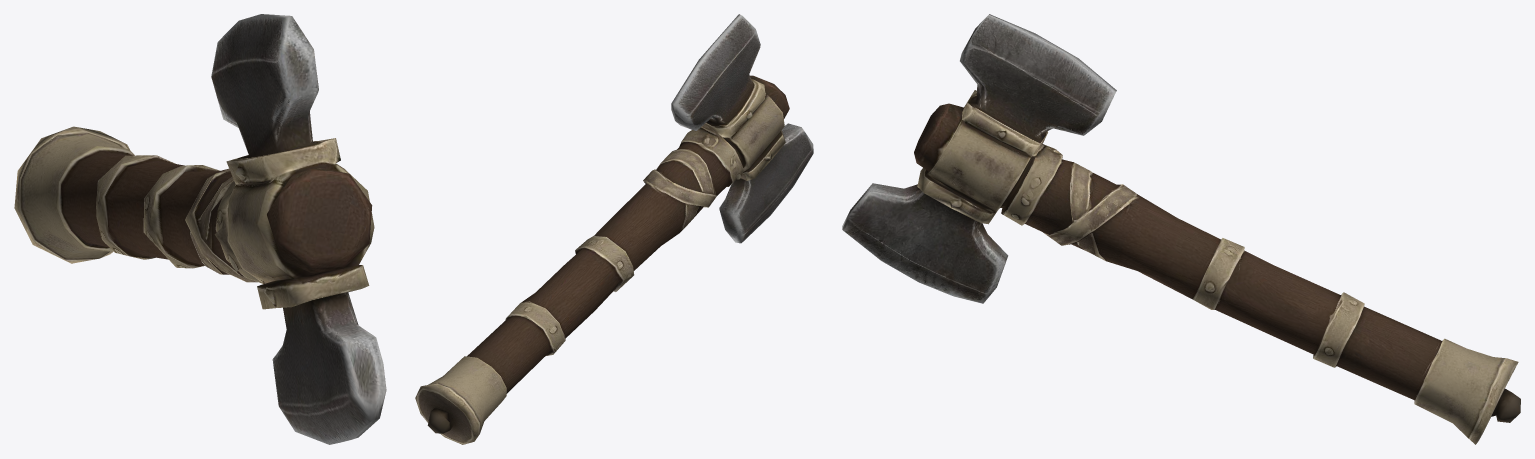
Rendered from cavalry_hp_melee.glb.
The picture shows the model from 3 angles, left to right: view 1: azimuth 30°, elevation 25°; view 2: azimuth 150°, elevation 25°; view 3: azimuth 270°, elevation 25°; orthographic projection. The views are drawn at different scales.
Visible parts, largest first — view 1: tripo_node_5e87e717-23ee-44f8-9423-64578d6690a3; view 2: tripo_node_5e87e717-23ee-44f8-9423-64578d6690a3; view 3: tripo_node_5e87e717-23ee-44f8-9423-64578d6690a3.
Boxes of the visible parts, x1=… form: tripo_node_5e87e717-23ee-44f8-9423-64578d6690a3: x1=14, y1=14, x2=386, y2=444; tripo_node_5e87e717-23ee-44f8-9423-64578d6690a3: x1=415, y1=14, x2=813, y2=444; tripo_node_5e87e717-23ee-44f8-9423-64578d6690a3: x1=842, y1=14, x2=1520, y2=444.
Size of the model in its own units: 0.1468 by 0.2838 by 0.4678.
Materials: 1 (1 with a texture image).
